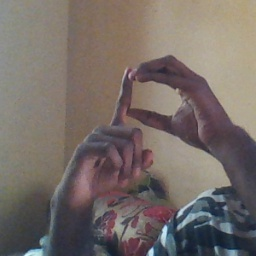P: (79, 53, 216, 193)
